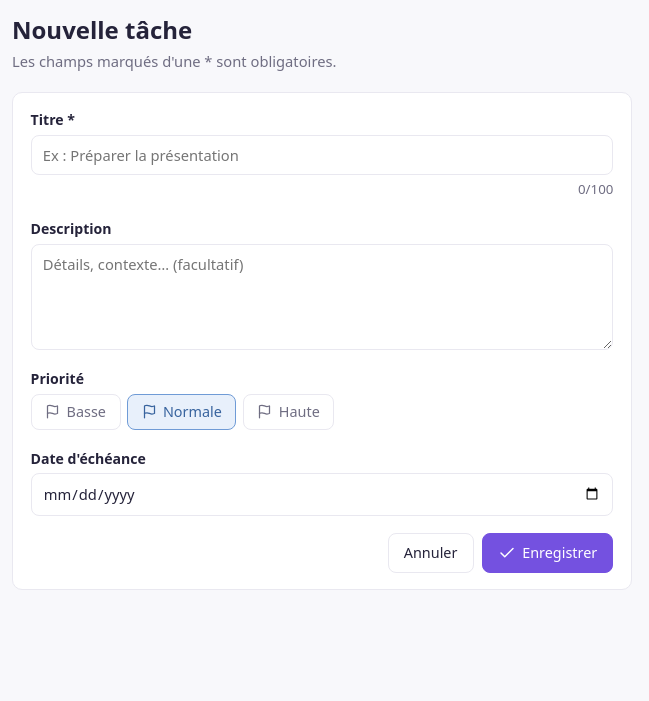
Scenario: TaskForm › affiche les erreurs de l'API par champ
Type "Ma tâche" into the field with test id "titre".
click(322, 155); type("Ma tâche")  # box [31,135,613,176]
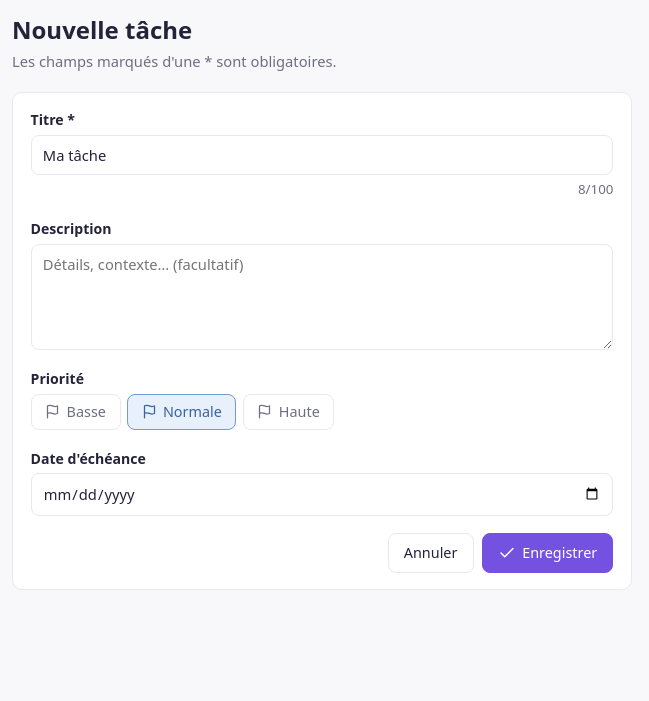
Submit the form
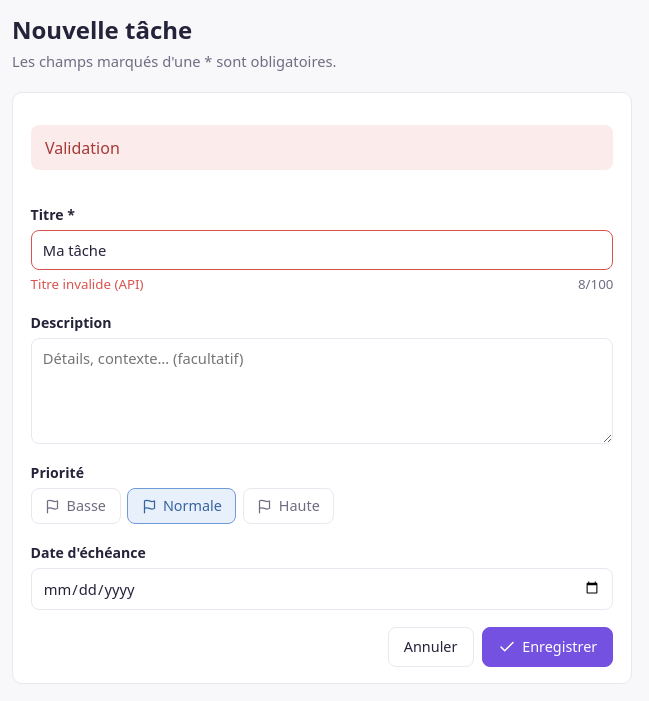
Result: the text with test id "titre-error" reads "Titre invalide (API)" at [31,275,144,293]
